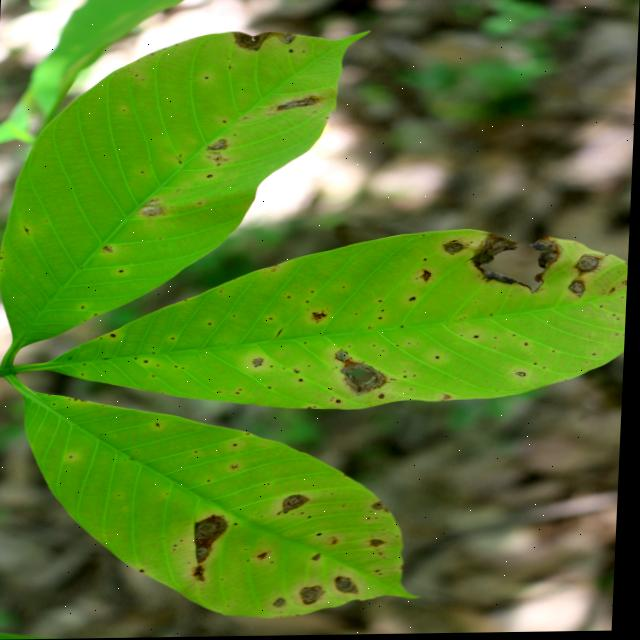Colletotrichum: (286, 495, 314, 513), (304, 586, 329, 605), (578, 257, 602, 274), (568, 282, 589, 298), (278, 600, 290, 608), (519, 374, 529, 378)
